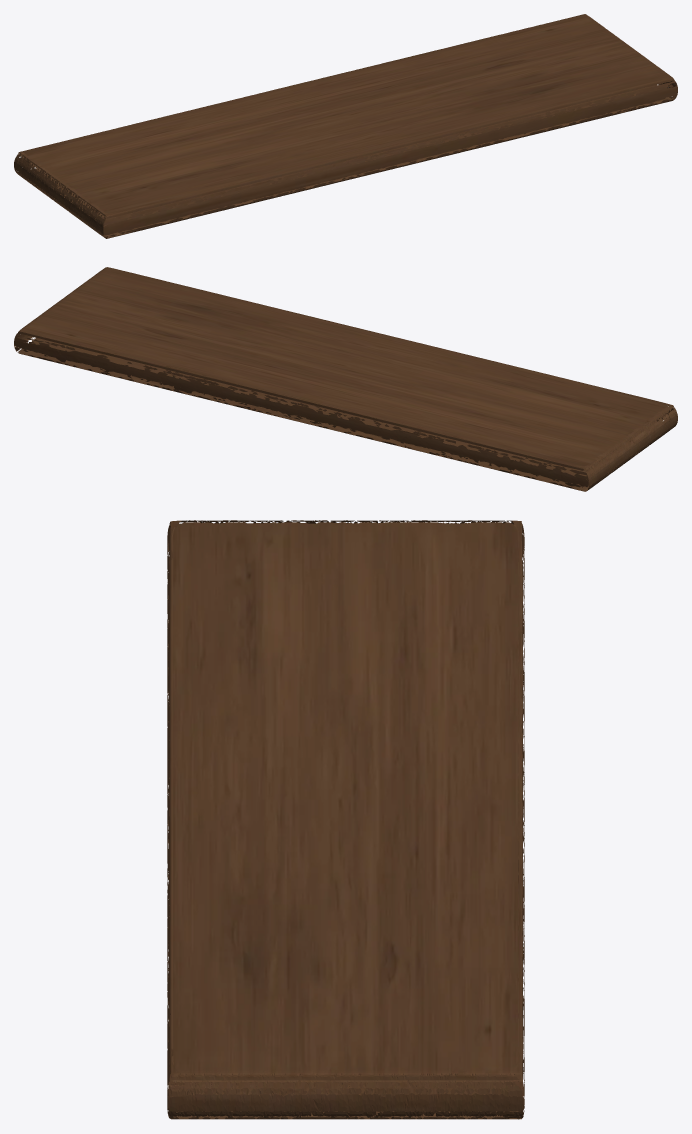
Rendered from cantilevered_walnut_desk.glb.
3 renders of one model, top to bottom at view 1: azimuth 30°, elevation 25°; view 2: azimuth 150°, elevation 25°; view 3: azimuth 270°, elevation 25°, orthographic. The views are drawn at different scales.
Parts seen in each view (by area): view 1: world; view 2: world; view 3: world.
Part boxes in pixels (bbox=[...]): world: bbox=[14, 14, 677, 238]; world: bbox=[14, 267, 677, 491]; world: bbox=[167, 520, 524, 1119].
Size of the model in its own units: 2.6 by 0.1 by 0.7.
1 material, 1 textured.
